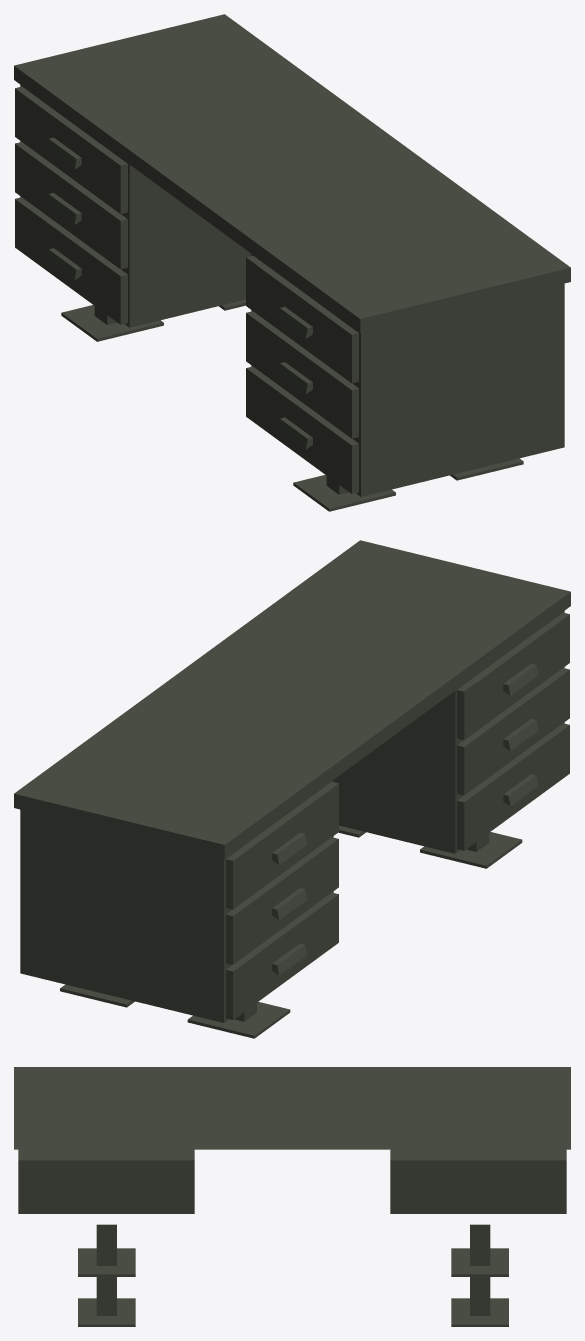
Rendered from cajonera1.fbx.
3 views of the same model, one above another, from view 1: azimuth 30°, elevation 25°; view 2: azimuth 150°, elevation 25°; view 3: azimuth 270°, elevation 25° (orthographic). The views are drawn at different scales.
Parts seen in each view (by area): view 1: Cube; view 2: Cube; view 3: Cube.
Part boxes in pixels (bbox=[...]): Cube: bbox=[14, 14, 570, 511]; Cube: bbox=[14, 540, 570, 1038]; Cube: bbox=[14, 1067, 570, 1326].
Bounding box in the file's own units: 218 × 210 × 589.
